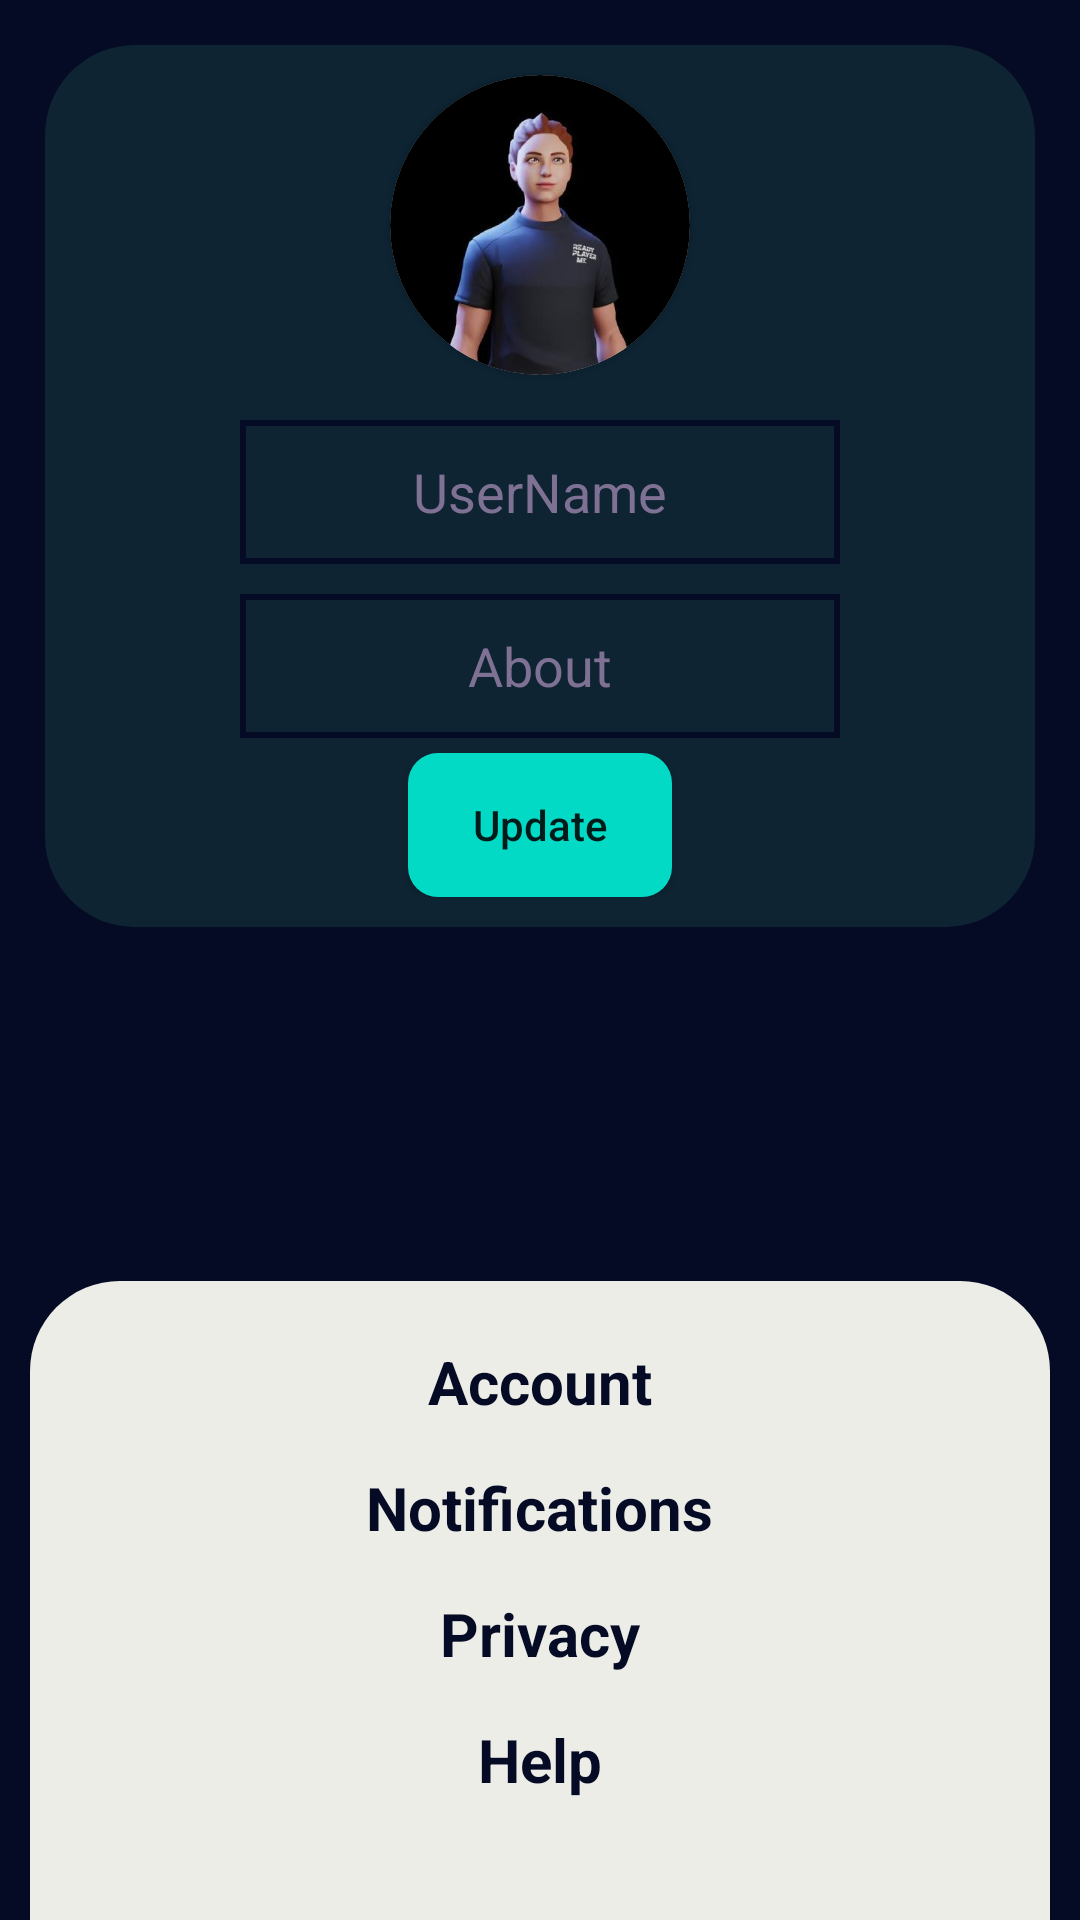

Locate icon controls on the screen. Image size 1080x1920, boxes as (x1, y1, x2, y2).
person: (390, 75, 690, 375)
